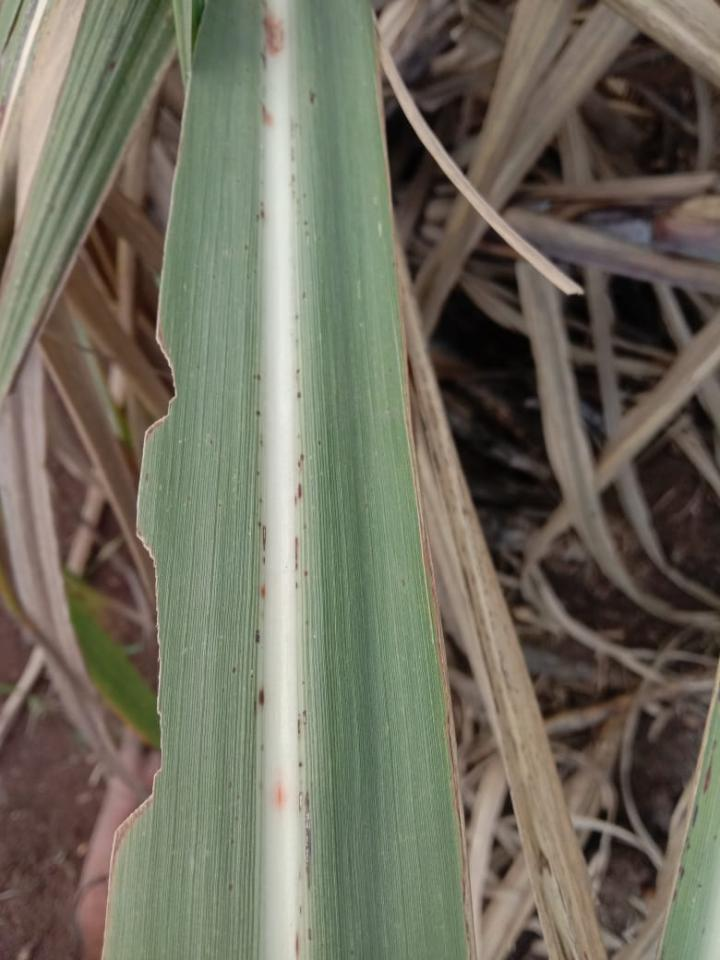RedRot: (265, 12, 285, 58), (274, 784, 286, 810), (262, 104, 274, 127), (260, 581, 265, 601)
Rust: (671, 733, 718, 903), (297, 787, 313, 891), (292, 533, 308, 591), (255, 518, 268, 567), (252, 683, 266, 719), (254, 198, 269, 226), (296, 707, 308, 739), (294, 479, 304, 509), (256, 49, 268, 72), (307, 89, 319, 106), (296, 451, 306, 470), (251, 370, 262, 384), (252, 628, 261, 645), (295, 930, 300, 959), (294, 389, 303, 401), (253, 408, 263, 418), (297, 760, 305, 770)
